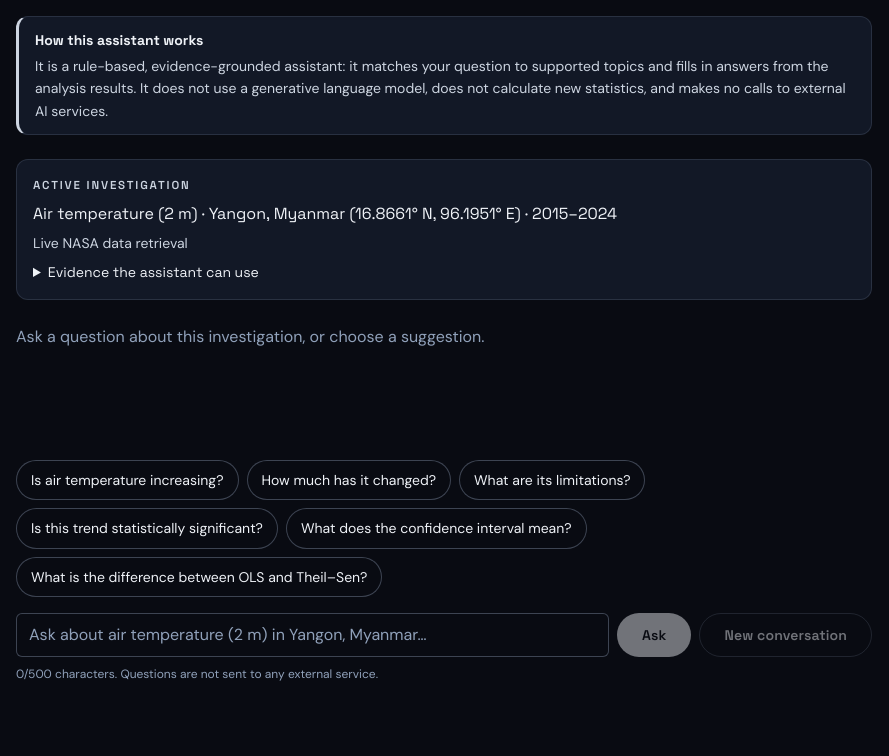
it: Detective page › shows the active investigation and answers a suggested question
(page scrolled)
expect the element with test id "active-investigation" shows "Air temperature (2 m) · Yangon, Myanmar (16.8661° N, 96.1951° E) · 2015–2024": met, box x1=33 y1=202 x2=617 y2=224
expect the text "does not use a generative language model" is shown: met, box x1=35 y1=57 x2=846 y2=120
Step 1. Click the button "Is air temperature increasing?" → (127, 480), box x1=16 y1=460 x2=238 y2=500
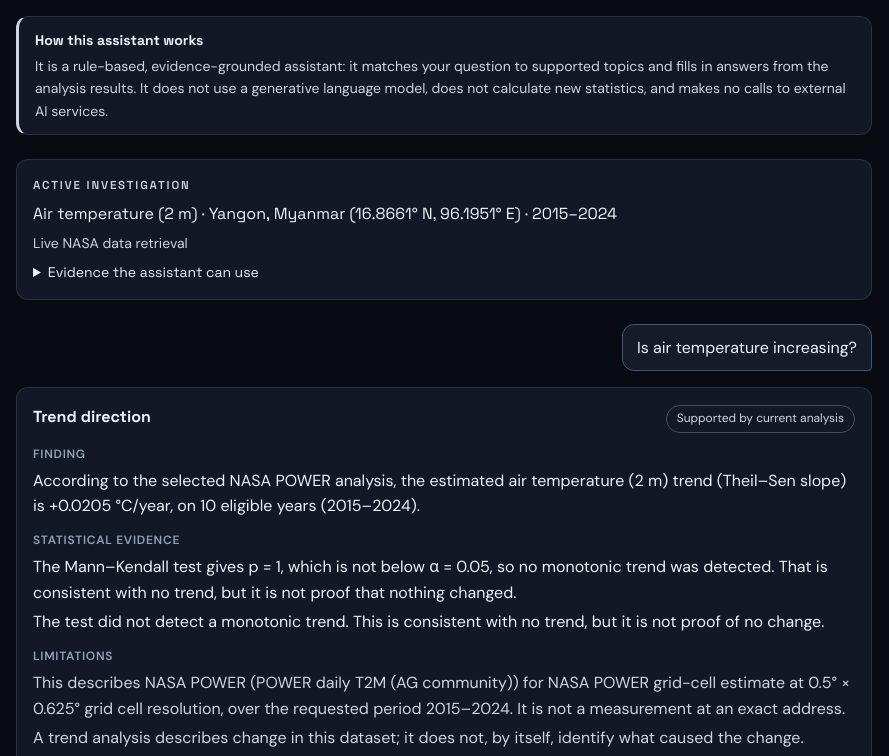
expect the text "Is air temperature increasing?" is shown: met, box x1=637 y1=335 x2=857 y2=360
expect the heading "Trend direction" is shown: met, box x1=33 y1=404 x2=151 y2=430
expect the text with test id "answer-status" reads "Supported by current analysis": met, box x1=677 y1=410 x2=844 y2=426
